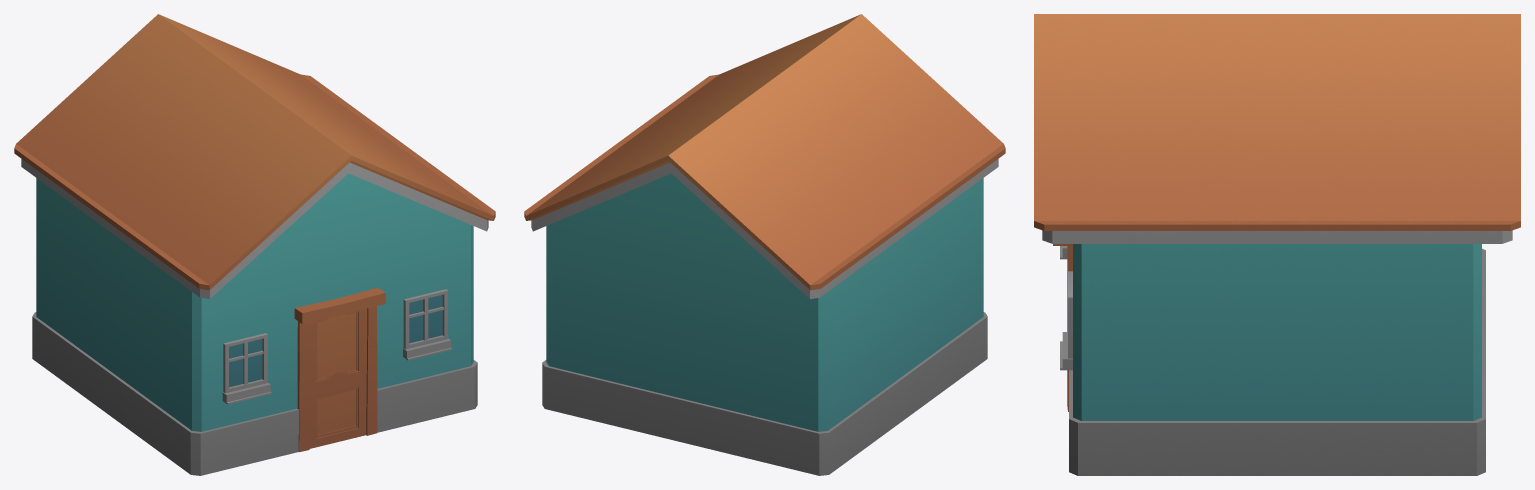
Rendered from SuburbanHouse_v1.fbx.
3 renders of one model, left to right at view 1: azimuth 30°, elevation 25°; view 2: azimuth 150°, elevation 25°; view 3: azimuth 270°, elevation 25°, orthographic. The views are drawn at different scales.
Parts seen in each view (by area): view 1: Floor_1; view 2: Floor_1; view 3: Floor_1.
Part boxes in pixels (left/top/right/bottom): Floor_1: left=14, top=14, right=495, bottom=475; Floor_1: left=524, top=14, right=1005, bottom=475; Floor_1: left=1034, top=14, right=1520, bottom=475.
Bounding box in the file's own units: 211 × 202 × 238.
1 material, 1 textured.
